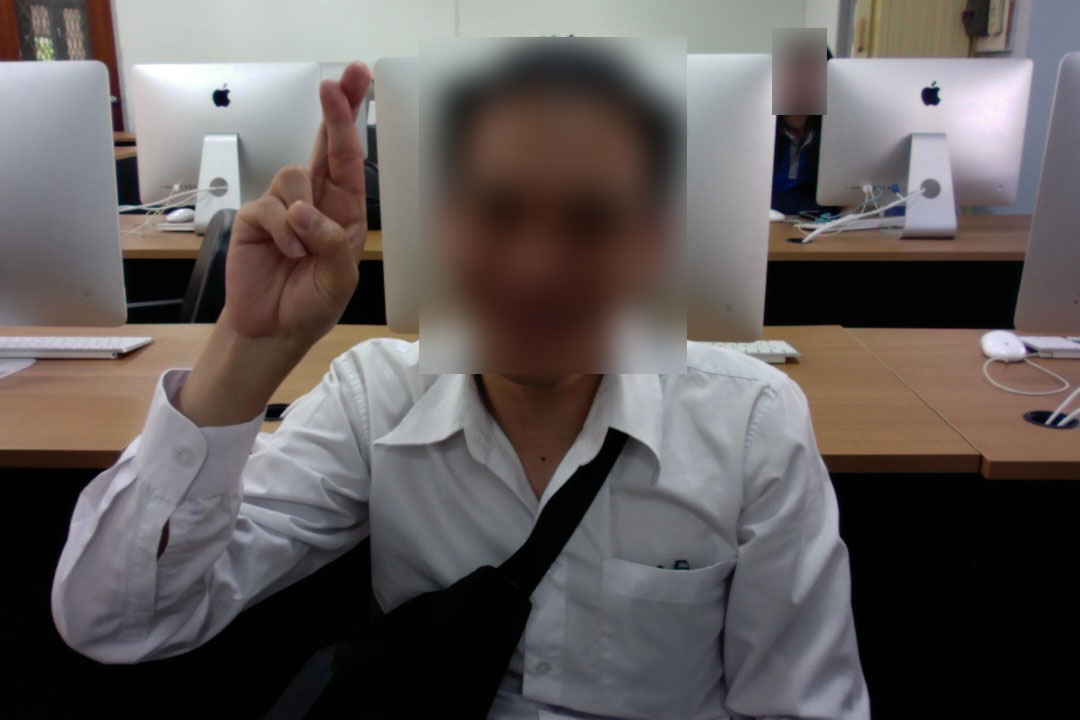rao: (215, 62, 384, 345)
